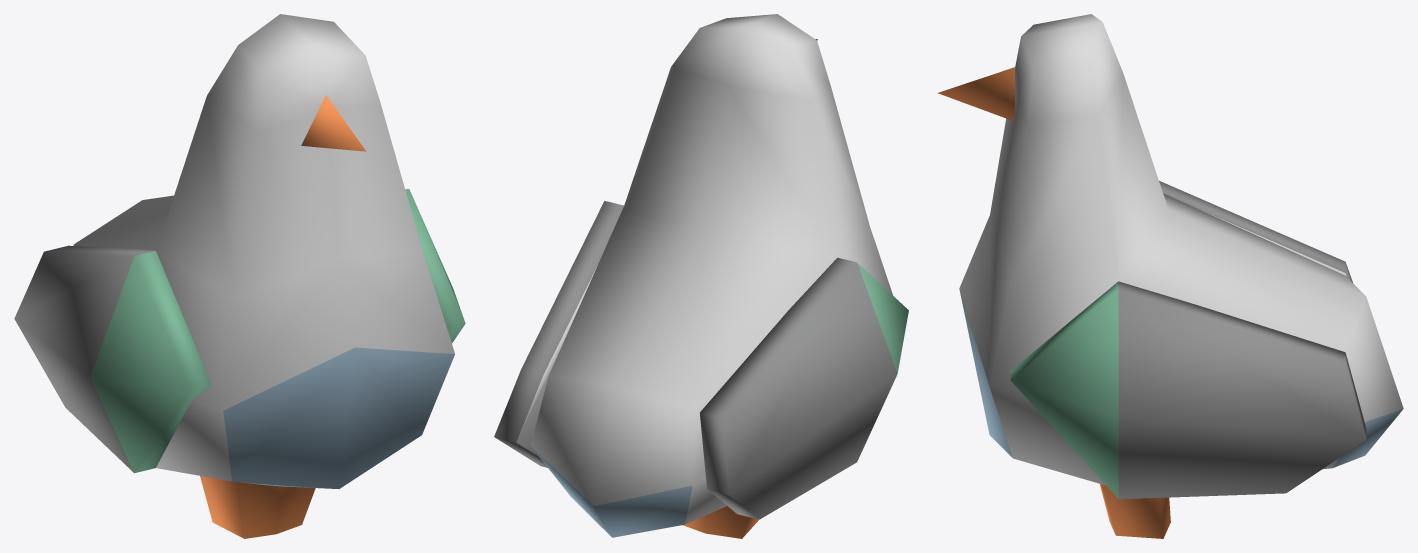
File: bird.glb
3 views of the same model, side by side, from view 1: azimuth 30°, elevation 25°; view 2: azimuth 150°, elevation 25°; view 3: azimuth 270°, elevation 25° (orthographic). The views are drawn at different scales.
Visible parts, largest first — view 1: deco_Bird; view 2: deco_Bird; view 3: deco_Bird.
Part boxes in pixels (x1,y1,x2,y2): deco_Bird: [14, 14, 465, 538]; deco_Bird: [494, 14, 908, 538]; deco_Bird: [937, 14, 1403, 538].
Bounding box in the file's own units: 0.5381 × 0.7406 × 0.6256.
1 material, 1 textured.
